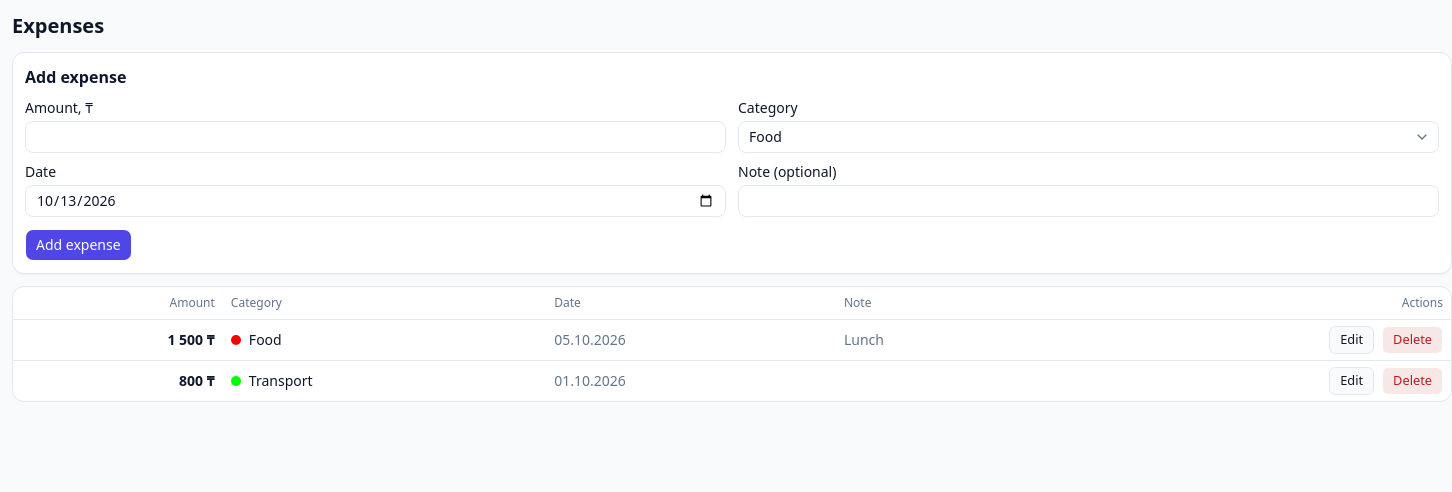
Test case: ExpensesPage › adds an expense at its sorted position and clears the form but keeps the date
This screenshot has width=1452, height=492.
Check: the table is shown, box [13,287,1451,400]
In the field labelled "Amount, ₸": [376, 137] box [25,121,726,153], type "2000"
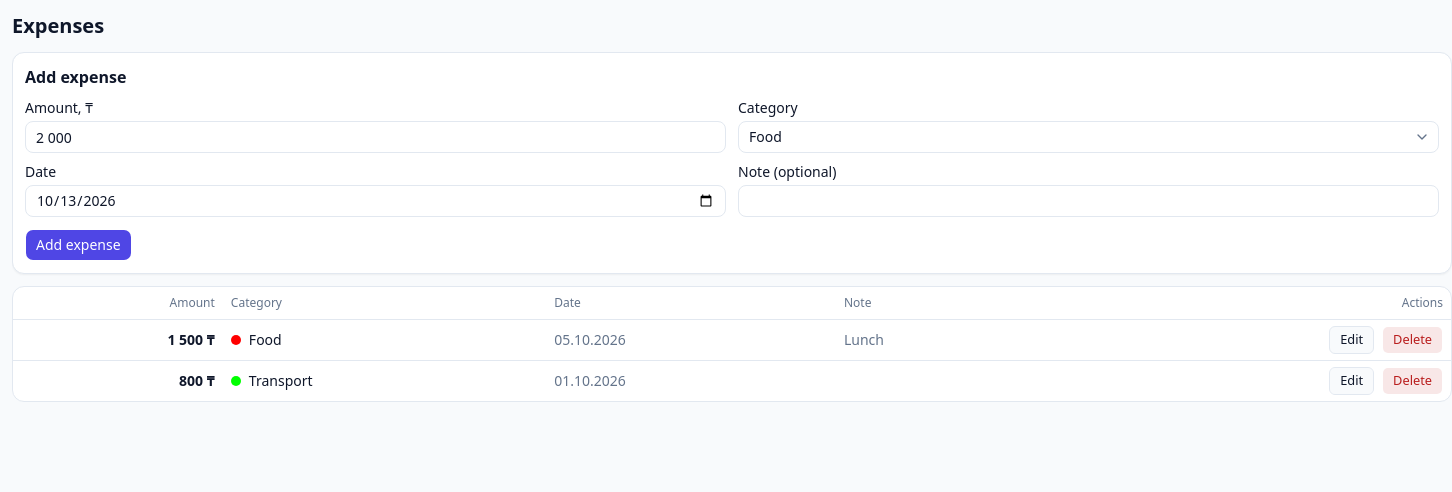
In the date field labelled "Date": [376, 201] box [25,185,726,217], type "2026-10-03"
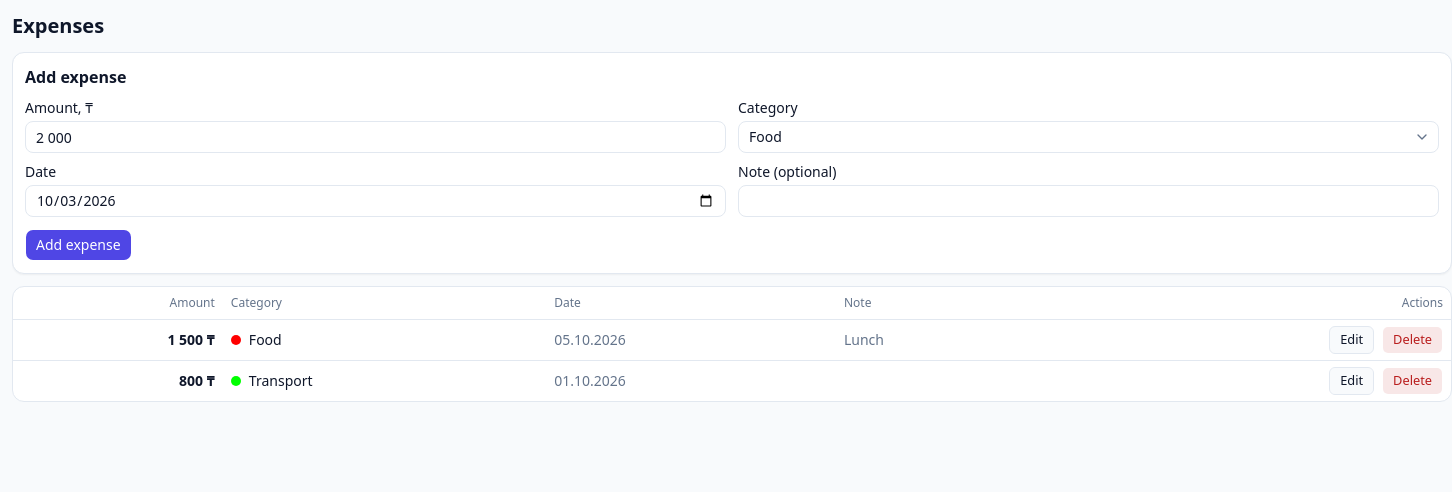
In the field labelled "Note (optional)": [1088, 201] box [738,185,1439,217], type "Taxi"
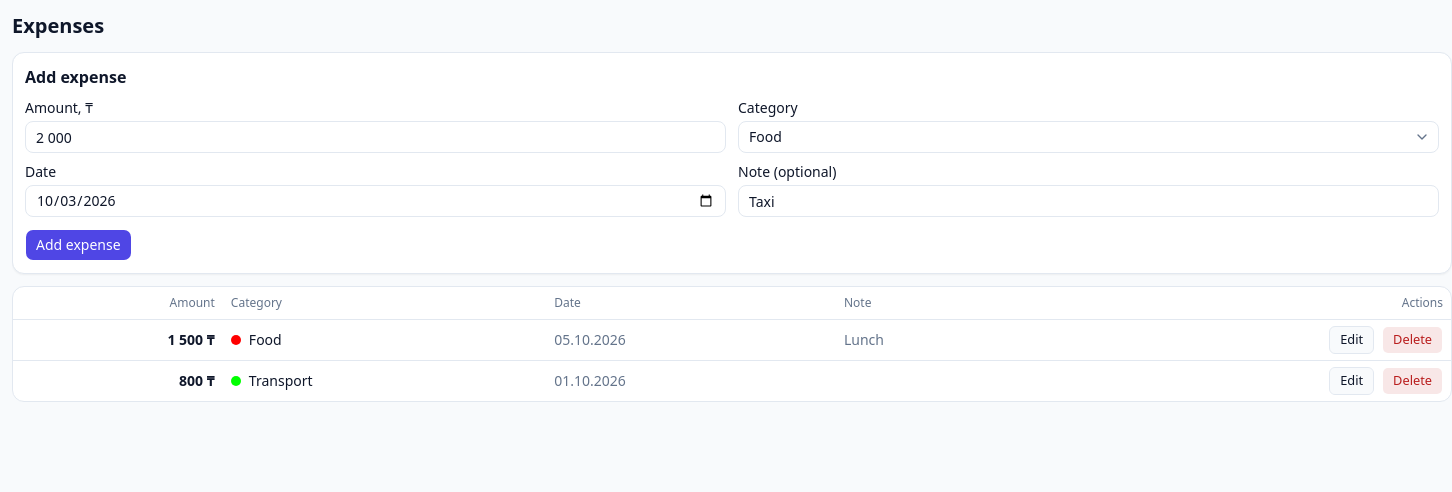
Click the button "Add expense": [78, 245] box [25,229,132,261]
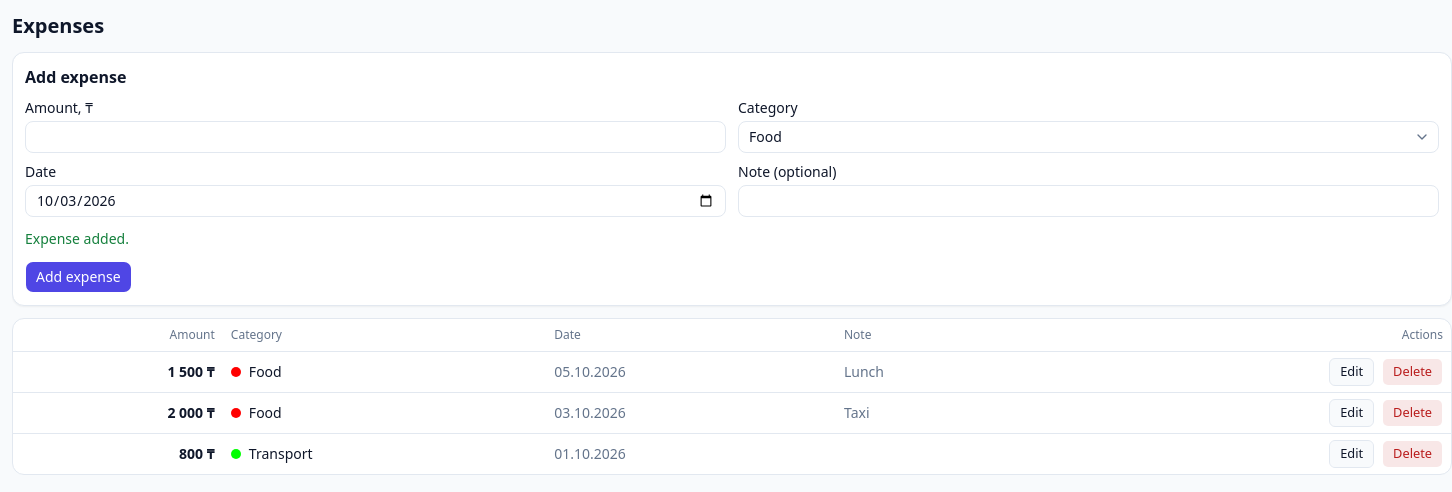
Check: the text "03.10.2026" is shown, box [546,392,836,433]
Check: the row "2 000 ₸ Food 03.10.2026 Taxi Edit Delete" is shown, box [13,392,1451,433]
Check: the field labelled "Amount, ₸" is empty, box [25,121,726,153]
